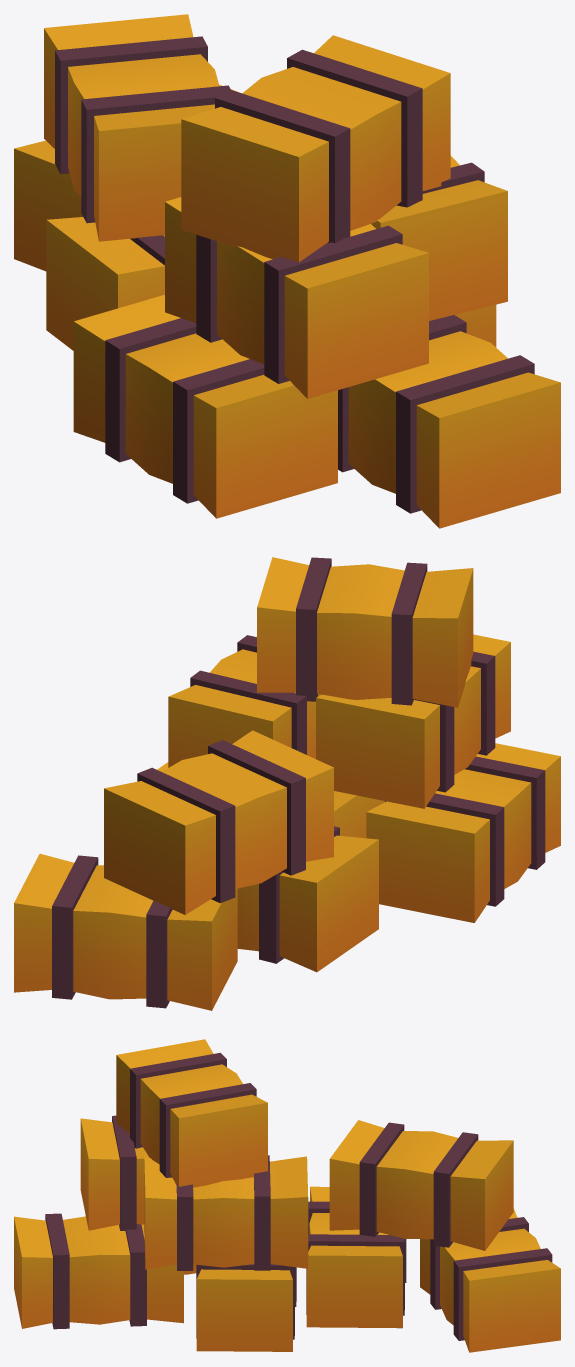
File: village_muliple_straw.gltf
3 views of the same model, one above another, from view 1: azimuth 30°, elevation 25°; view 2: azimuth 150°, elevation 25°; view 3: azimuth 270°, elevation 25° (orthographic). The views are drawn at different scales.
Visible parts, largest first — view 1: Hay_Bale.009_Material.005_0 (×13), Hay_Bale.004_Material.005_0 (×13), Hay_Bale.006_Material.005_0 (×10), Hay_Bale.005_Material.005_0 (×9), Hay_Bale.007_Material.005_0 (×12), Hay_Bale.008_Material.005_0 (×2), Hay_Bale.002_Material.005_0 (×3), Hay_Bale.001_Material.005_0, Hay_Bale.003_Material.005_0; view 2: Hay_Bale.007_Material.005_0 (×13), Hay_Bale.009_Material.005_0 (×11), Hay_Bale.001_Material.005_0 (×10), Hay_Bale.004_Material.005_0 (×13), Hay_Bale.006_Material.005_0 (×9), Hay_Bale.002_Material.005_0 (×5), Hay_Bale.008_Material.005_0 (×6), Hay_Bale.003_Material.005_0; view 3: Hay_Bale.007_Material.005_0 (×11), Hay_Bale.009_Material.005_0 (×13), Hay_Bale.005_Material.005_0 (×10), Hay_Bale.008_Material.005_0 (×9), Hay_Bale.001_Material.005_0 (×11), Hay_Bale.002_Material.005_0 (×5), Hay_Bale.003_Material.005_0 (×3), Hay_Bale.006_Material.005_0 (×6).
Boxes of the visible parts, <box> form: Hay_Bale.009_Material.005_0 (×13): <box>181,35,450,262</box>; Hay_Bale.004_Material.005_0 (×13): <box>73,294,337,518</box>; Hay_Bale.006_Material.005_0 (×10): <box>165,202,428,398</box>; Hay_Bale.005_Material.005_0 (×9): <box>342,322,560,528</box>; Hay_Bale.007_Material.005_0 (×12): <box>44,14,230,241</box>; Hay_Bale.008_Material.005_0 (×2): <box>377,180,507,320</box>; Hay_Bale.002_Material.005_0 (×3): <box>46,217,164,350</box>; Hay_Bale.001_Material.005_0: <box>14,148,82,271</box>; Hay_Bale.003_Material.005_0: <box>455,304,496,347</box>; Hay_Bale.007_Material.005_0 (×13): <box>104,730,333,914</box>; Hay_Bale.009_Material.005_0 (×11): <box>257,557,473,707</box>; Hay_Bale.001_Material.005_0 (×10): <box>14,853,237,1010</box>; Hay_Bale.004_Material.005_0 (×13): <box>366,743,560,922</box>; Hay_Bale.006_Material.005_0 (×9): <box>316,642,510,808</box>; Hay_Bale.002_Material.005_0 (×5): <box>237,835,378,972</box>; Hay_Bale.008_Material.005_0 (×6): <box>168,649,306,767</box>; Hay_Bale.003_Material.005_0: <box>334,795,384,838</box>; Hay_Bale.007_Material.005_0 (×11): <box>329,1120,513,1250</box>; Hay_Bale.009_Material.005_0 (×13): <box>116,1039,267,1187</box>; Hay_Bale.005_Material.005_0 (×10): <box>14,1213,183,1329</box>; Hay_Bale.008_Material.005_0 (×9): <box>144,1155,308,1270</box>; Hay_Bale.001_Material.005_0 (×11): <box>420,1223,560,1352</box>; Hay_Bale.002_Material.005_0 (×5): <box>306,1213,404,1328</box>; Hay_Bale.003_Material.005_0 (×3): <box>196,1265,294,1351</box>; Hay_Bale.006_Material.005_0 (×6): <box>80,1115,144,1230</box>.
Size of the model in its own units: 1.03 by 0.862 by 1.98.
Materials: 1 (1 with a texture image).
